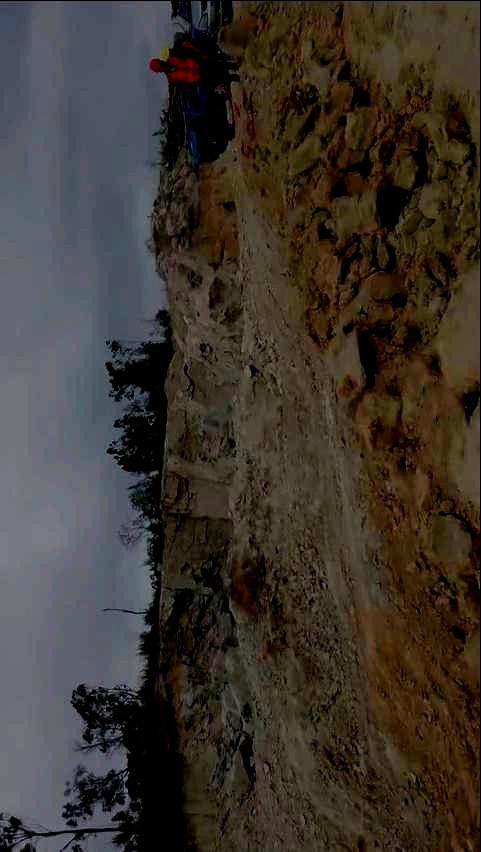helmet: (147, 58, 168, 74), (158, 47, 175, 61)
